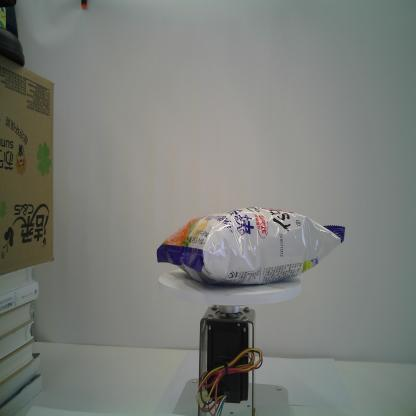Puffed Food: (155, 201, 346, 289)
